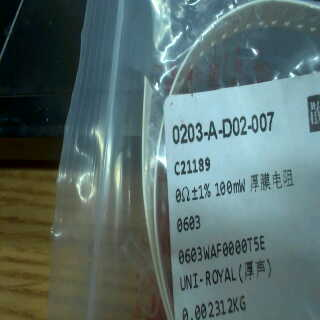0R: (172, 175, 249, 237)
